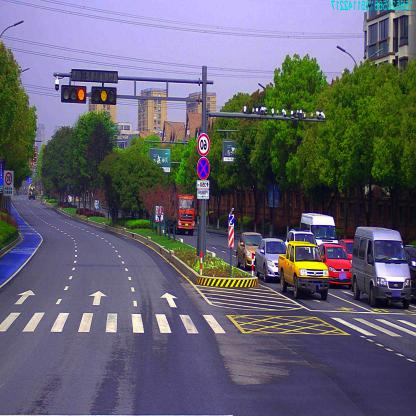traffic-light: (94, 86, 115, 104), (61, 89, 84, 103)
